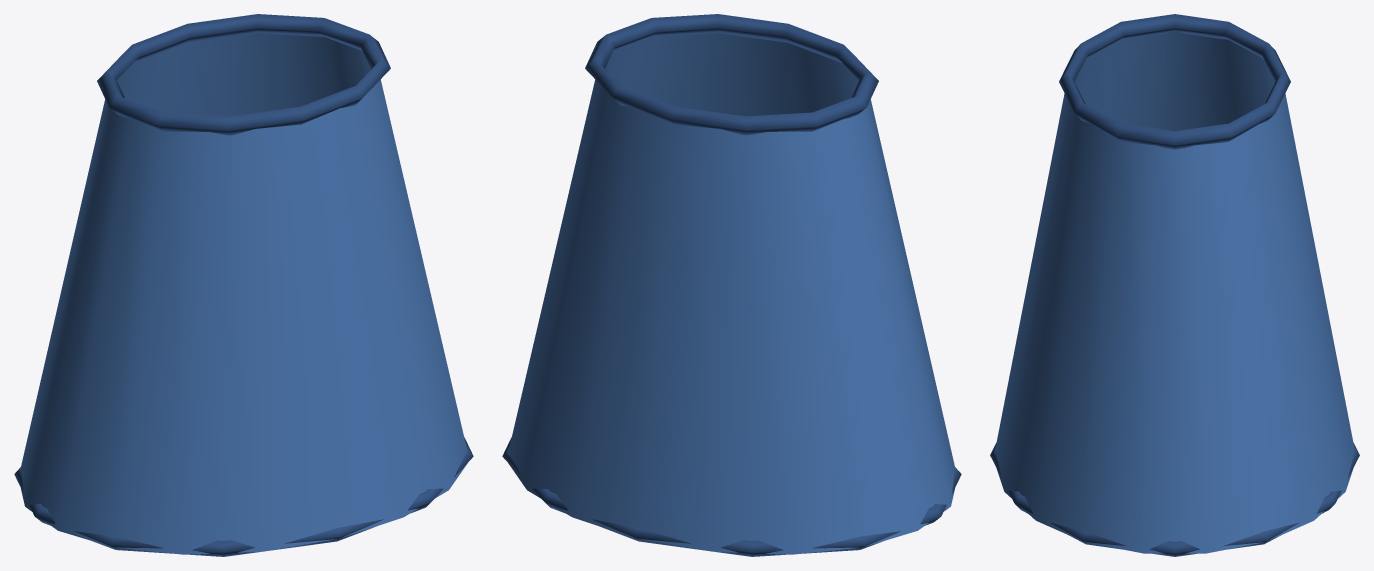
The model's file is top_dress.glb.
3 views of the same model, side by side, from view 1: azimuth 30°, elevation 25°; view 2: azimuth 150°, elevation 25°; view 3: azimuth 270°, elevation 25° (orthographic). The views are drawn at different scales.
Visible parts, largest first — view 1: Body; view 2: Body; view 3: Body.
Boxes of the visible parts, x1,y1,x2,y2 form: Body: (14,14,473,556); Body: (502,14,961,556); Body: (990,14,1359,556).
Size of the model in its own units: 0.55 by 0.512 by 0.44.
